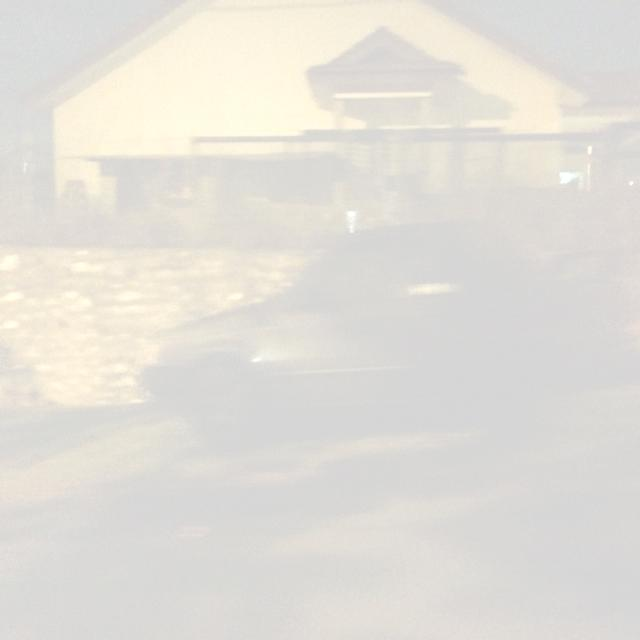Car: (134, 225, 578, 465)
